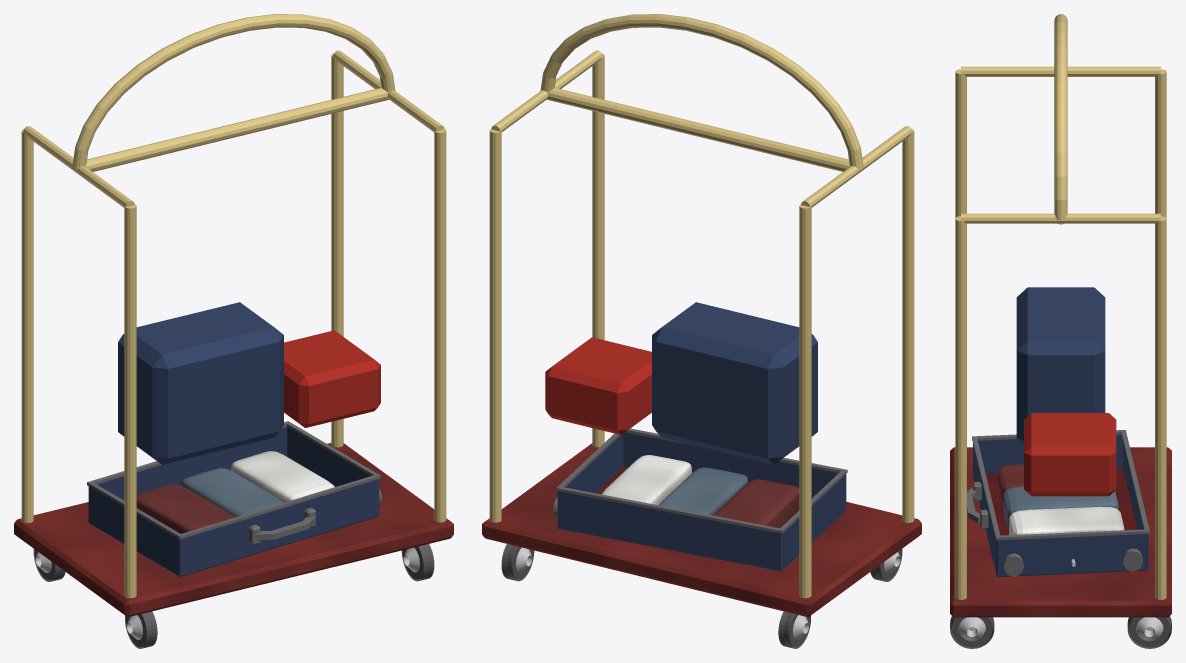
File: carrinho_bagagem.glb
The picture shows the model from 3 angles, left to right: view 1: azimuth 30°, elevation 25°; view 2: azimuth 150°, elevation 25°; view 3: azimuth 270°, elevation 25°; orthographic projection. The views are drawn at different scales.
Visible parts, largest first — view 1: carrinho_bagagem_mala_azul, carrinho_bagagem_ouro_hotel, carrinho_bagagem_tapete, carrinho_bagagem_tinta_vermelha, carrinho_bagagem_plastico_preto, carrinho_bagagem_lencol, carrinho_bagagem_cobertor, carrinho_bagagem_tecido_sofa, carrinho_bagagem_borracha, carrinho_bagagem_aco; view 2: carrinho_bagagem_mala_azul, carrinho_bagagem_ouro_hotel, carrinho_bagagem_tapete, carrinho_bagagem_tinta_vermelha, carrinho_bagagem_cobertor, carrinho_bagagem_lencol, carrinho_bagagem_plastico_preto, carrinho_bagagem_tecido_sofa, carrinho_bagagem_borracha, carrinho_bagagem_aco; view 3: carrinho_bagagem_ouro_hotel, carrinho_bagagem_mala_azul, carrinho_bagagem_tapete, carrinho_bagagem_tinta_vermelha, carrinho_bagagem_plastico_preto, carrinho_bagagem_lencol, carrinho_bagagem_tecido_sofa, carrinho_bagagem_borracha, carrinho_bagagem_forro, carrinho_bagagem_aco, carrinho_bagagem_cobertor.
Boxes of the visible parts, <box> form: carrinho_bagagem_mala_azul: <box>88,302,379,576</box>; carrinho_bagagem_ouro_hotel: <box>21,14,446,598</box>; carrinho_bagagem_tapete: <box>14,443,453,617</box>; carrinho_bagagem_tinta_vermelha: <box>284,330,380,427</box>; carrinho_bagagem_plastico_preto: <box>87,421,381,544</box>; carrinho_bagagem_lencol: <box>231,451,334,502</box>; carrinho_bagagem_cobertor: <box>136,484,234,533</box>; carrinho_bagagem_tecido_sofa: <box>181,468,283,517</box>; carrinho_bagagem_borracha: <box>33,544,434,648</box>; carrinho_bagagem_aco: <box>35,547,419,639</box>; carrinho_bagagem_mala_azul: <box>557,302,846,571</box>; carrinho_bagagem_ouro_hotel: <box>489,14,914,598</box>; carrinho_bagagem_tapete: <box>482,443,921,617</box>; carrinho_bagagem_tinta_vermelha: <box>545,337,651,434</box>; carrinho_bagagem_cobertor: <box>713,479,799,528</box>; carrinho_bagagem_lencol: <box>602,455,691,505</box>; carrinho_bagagem_plastico_preto: <box>553,428,847,533</box>; carrinho_bagagem_tecido_sofa: <box>659,467,747,515</box>; carrinho_bagagem_borracha: <box>501,544,902,648</box>; carrinho_bagagem_aco: <box>516,547,900,639</box>; carrinho_bagagem_ouro_hotel: <box>955,14,1166,599</box>; carrinho_bagagem_mala_azul: <box>973,287,1148,576</box>; carrinho_bagagem_tapete: <box>950,447,1171,617</box>; carrinho_bagagem_tinta_vermelha: <box>1024,413,1116,496</box>; carrinho_bagagem_plastico_preto: <box>967,430,1149,576</box>; carrinho_bagagem_lencol: <box>1009,506,1124,534</box>; carrinho_bagagem_tecido_sofa: <box>1003,486,1118,528</box>; carrinho_bagagem_borracha: <box>950,616,1171,648</box>; carrinho_bagagem_forro: <box>986,468,1137,535</box>; carrinho_bagagem_aco: <box>958,559,1163,640</box>; carrinho_bagagem_cobertor: <box>997,464,1023,502</box>.
Bounding box in the file's own units: 1 × 1.62 × 0.6.
11 materials, 5 textured.
